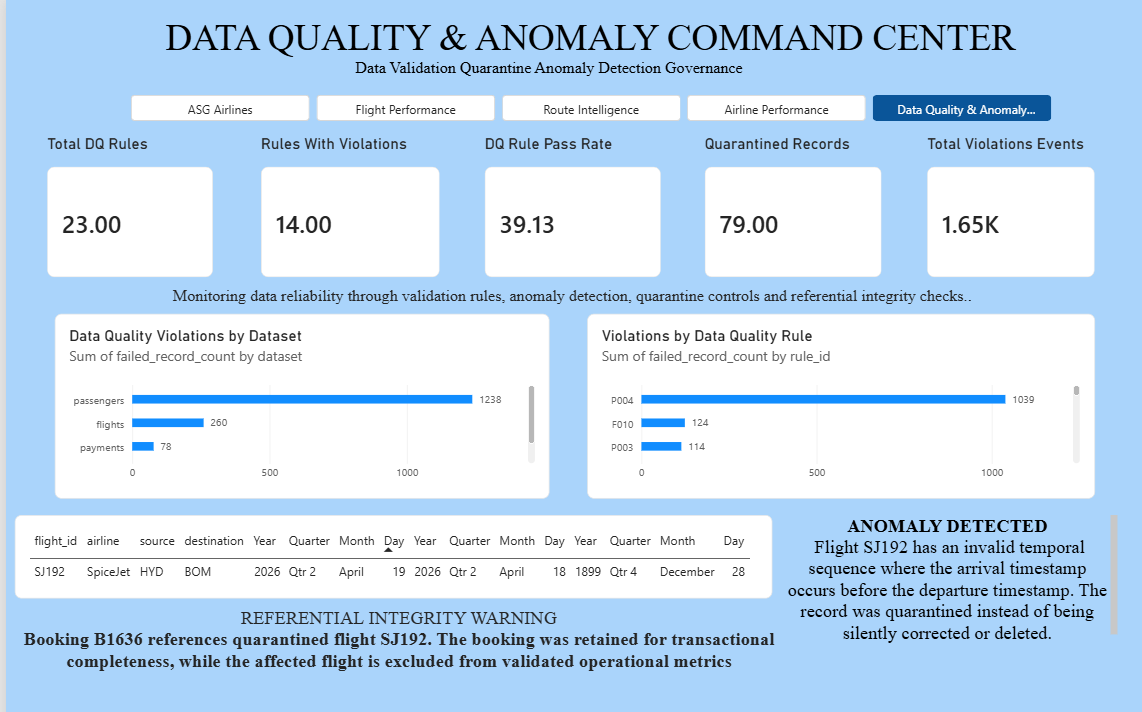

Layout of this report page (visuals, bound fields, positions):
{"tool":"powerbi","page":{"name":"Data Quality & Anomaly Insights","canvas":[1920,1080],"ordinal":4},"visuals":[{"type":"textbox","box":[10.1,0,1239.1,98.6],"z":0},{"type":"cardVisual","title":"Total DQ Rules","fields":{"Data":["Sum(dq_kpis.value)"]},"box":[47.8,156.5,192.8,165.2],"z":1000},{"type":"cardVisual","title":"Rules With Violations","fields":{"Data":["Sum(dq_kpis.value)"]},"box":[295.7,156.5,207.2,165.2],"z":2000},{"type":"cardVisual","title":"Total Violations Events","fields":{"Data":["Sum(dq_kpis.value)"]},"box":[1068.1,156.5,194.2,165.2],"z":3000},{"type":"cardVisual","title":"Quarantined Records","fields":{"Data":["Sum(dq_kpis.value)"]},"box":[810.1,156.5,205.8,165.2],"z":4000},{"type":"cardVisual","title":"DQ Rule Pass Rate","fields":{"Data":["Sum(dq_kpis.value)"]},"box":[555.1,156.5,204.3,165.2],"z":5000},{"type":"clusteredBarChart","title":"Data Quality Violations by Dataset","fields":{"Category":["dq_report.dataset"],"Y":["Sum(dq_report.failed_record_count)"]},"box":[56.5,363.8,573.9,214.5],"z":6000},{"type":"clusteredBarChart","title":"Violations by Data Quality Rule","fields":{"Category":["dq_report.rule_id"],"Y":["Sum(dq_report.failed_record_count)"]},"box":[673.9,363.8,588.4,214.5],"z":7000},{"type":"tableEx","fields":{"Values":["flights.flight_id","flights.airline","flights.source","flights.destination","flights.departure_time.Variation.Date Hierarchy.Year","flights.departure_time.Variation.Date Hierarchy.Quarter","flights.departure_time.Variation.Date Hierarchy.Month","flights.departure_time.Variation.Date Hierarchy.Day","flights.arrival_time.Variation.Date Hierarchy.Year","flights.arrival_time.Variation.Date Hierarchy.Quarter","flights.arrival_time.Variation.Date Hierarchy.Month","flights.arrival_time.Variation.Date Hierarchy.Day"]},"box":[10.1,597.1,878.3,97.1],"z":8000},{"type":"textbox","box":[158,331.9,997.1,43.5],"z":9000},{"type":"textbox","box":[901.4,597.1,387,152.2],"z":10000},{"type":"textbox","box":[10.1,704.3,891.3,87],"z":11000},{"type":"pageNavigator","box":[144.9,110.1,1069.6,30.4],"z":11001}]}

Visuals, with their boxes on the page's 1920x1080 design canvas (x1, y1, x2, y2). These are canvas units, not pixel positions in the 1142x712 screenshot, which may show the page scaled, cropped or inside an application window:
textbox: [10,0,1249,99]
"Total DQ Rules" cardVisual: [48,156,241,322]
"Rules With Violations" cardVisual: [296,156,503,322]
"Total Violations Events" cardVisual: [1068,156,1262,322]
"Quarantined Records" cardVisual: [810,156,1016,322]
"DQ Rule Pass Rate" cardVisual: [555,156,759,322]
"Data Quality Violations by Dataset" clusteredBarChart: [56,364,630,578]
"Violations by Data Quality Rule" clusteredBarChart: [674,364,1262,578]
tableEx - flights.flight_id x flights.airline: [10,597,888,694]
textbox: [158,332,1155,375]
textbox: [901,597,1288,749]
textbox: [10,704,901,791]
pageNavigator: [145,110,1214,140]
